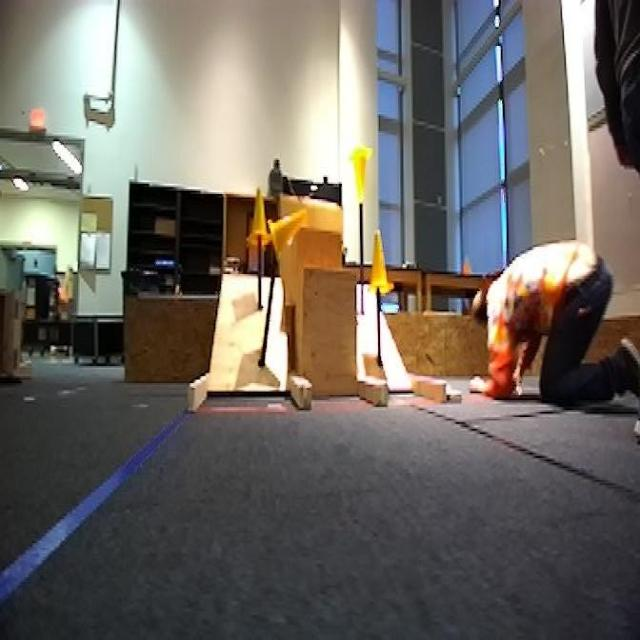frc_cone: (367, 228, 397, 301), (272, 204, 312, 257), (349, 141, 378, 206), (248, 189, 276, 250)
